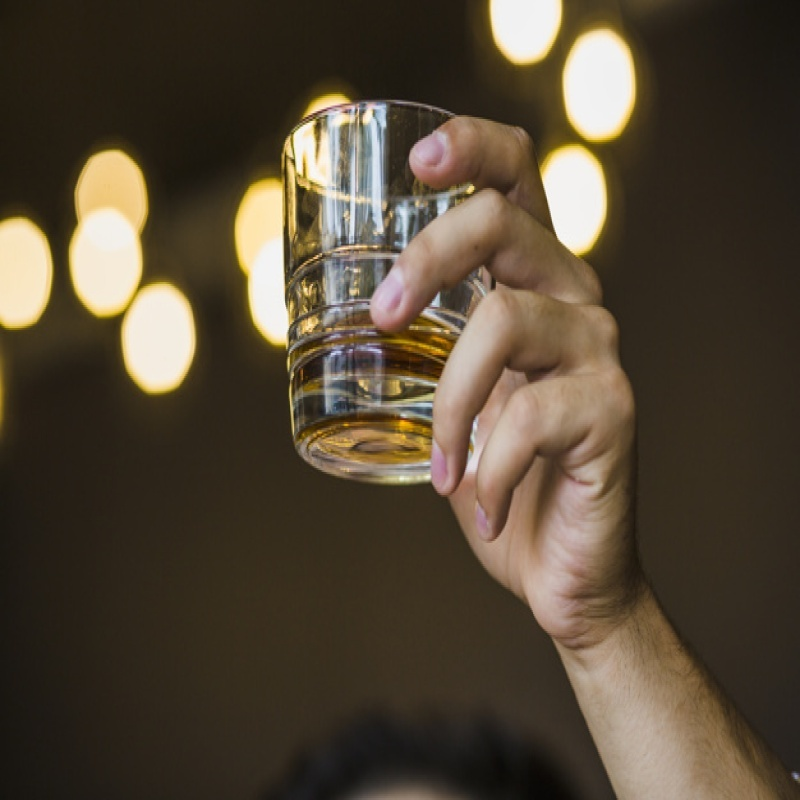whiskey: (278, 102, 470, 478)
